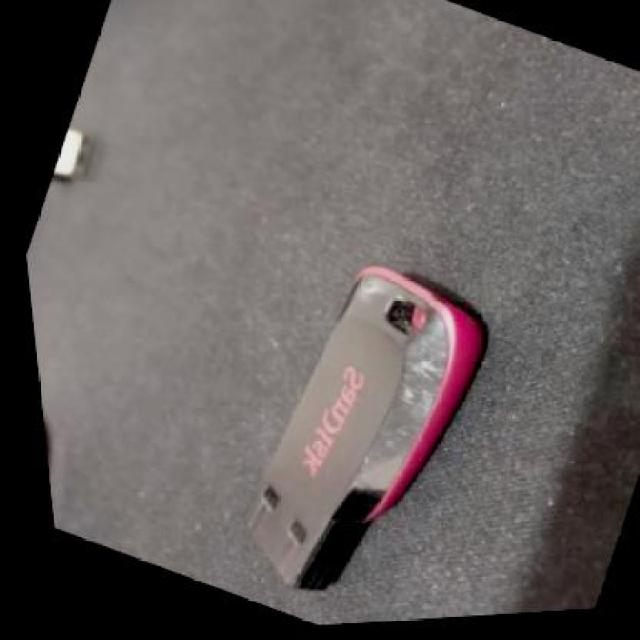Flashdisk: (169, 222, 543, 633)
